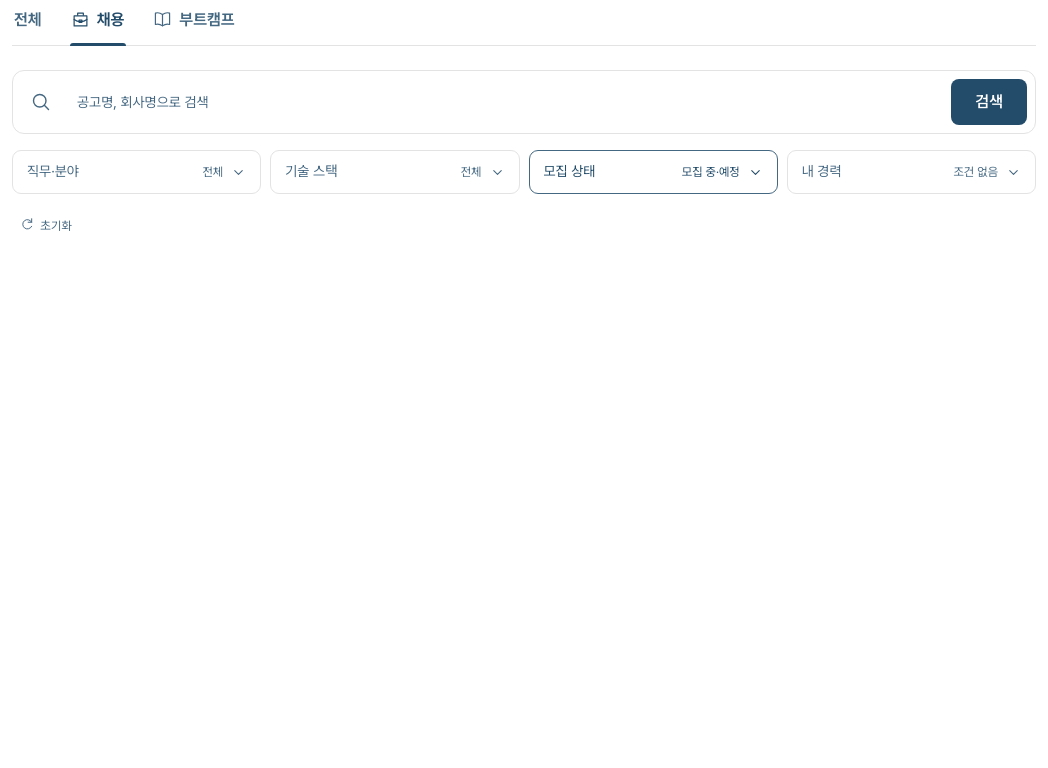
Test: 다른 필터를 열면 이전 패널은 닫히고 선택한 조건은 유지된다
This screenshot has width=1048, height=768.
Click the button "직무·분야 전체": x=137, y=172 [12,150,261,194]
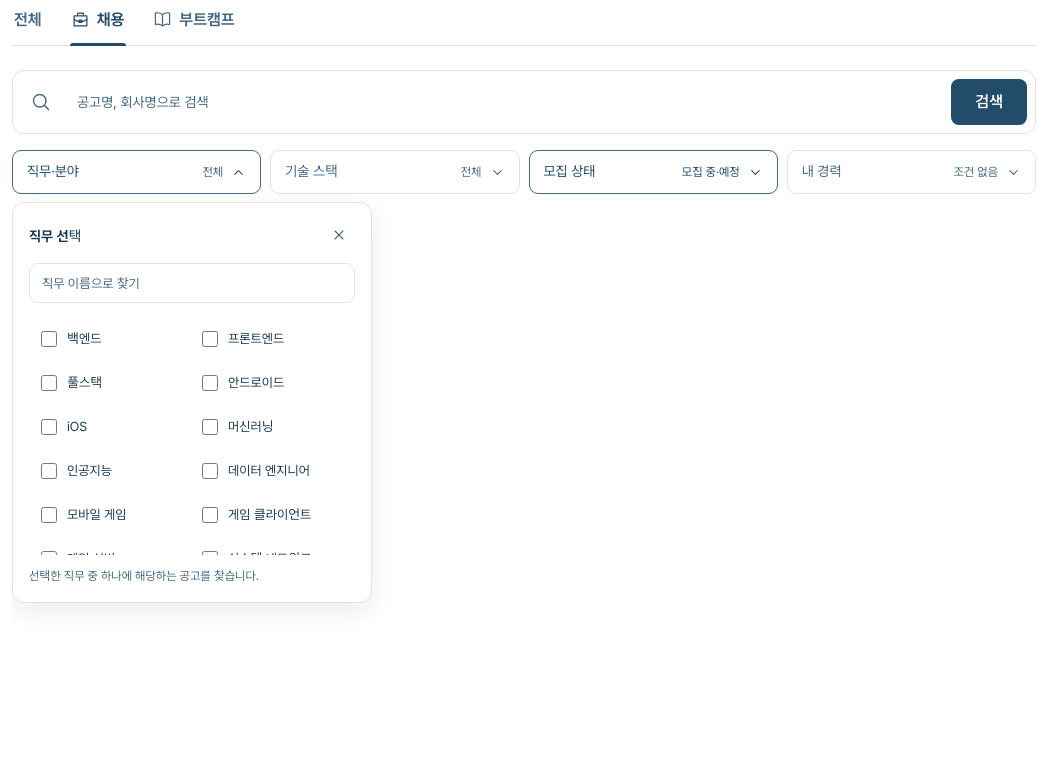
Click the checkbox labelled "백엔드": x=49, y=339 [41,331,57,347]
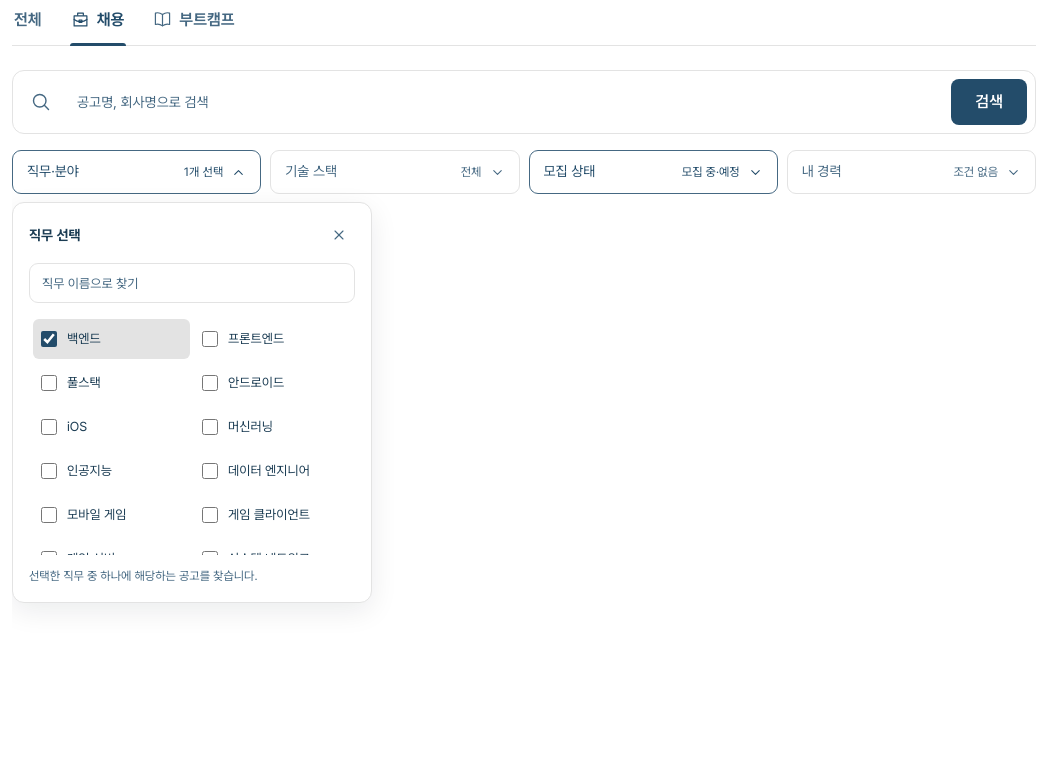
Click the button "기술 스택 전체": x=395, y=172 [270,150,520,194]
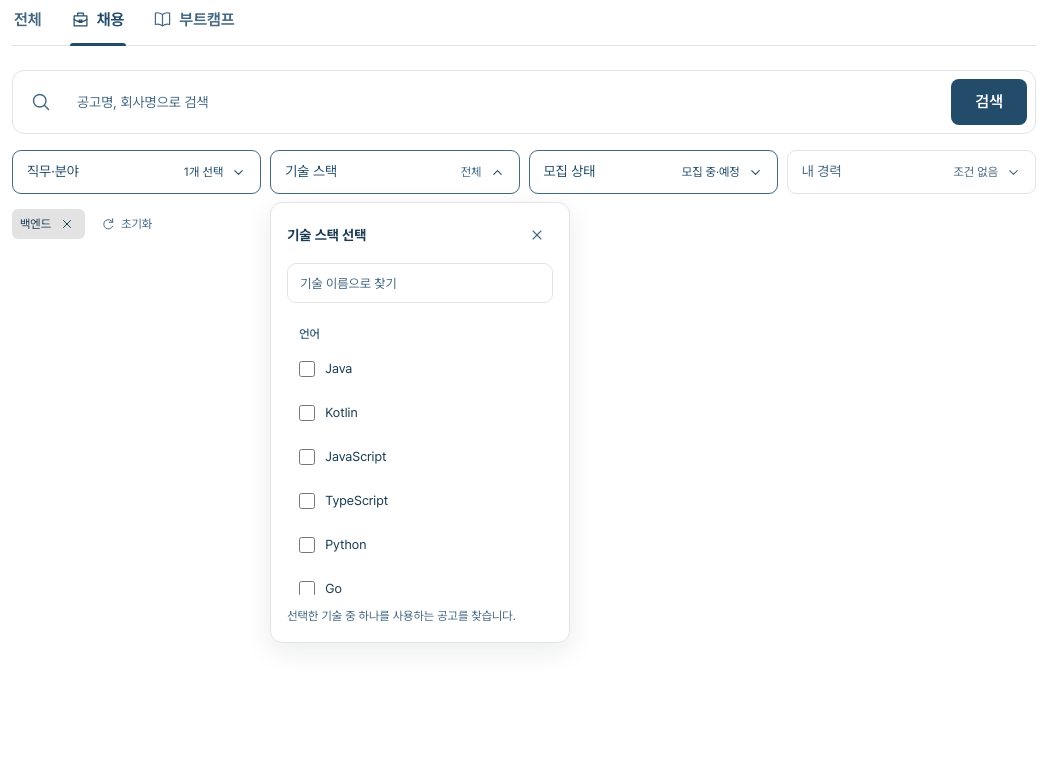
Click the button "직무·분야 1개 선택": x=137, y=172 [12,150,261,194]
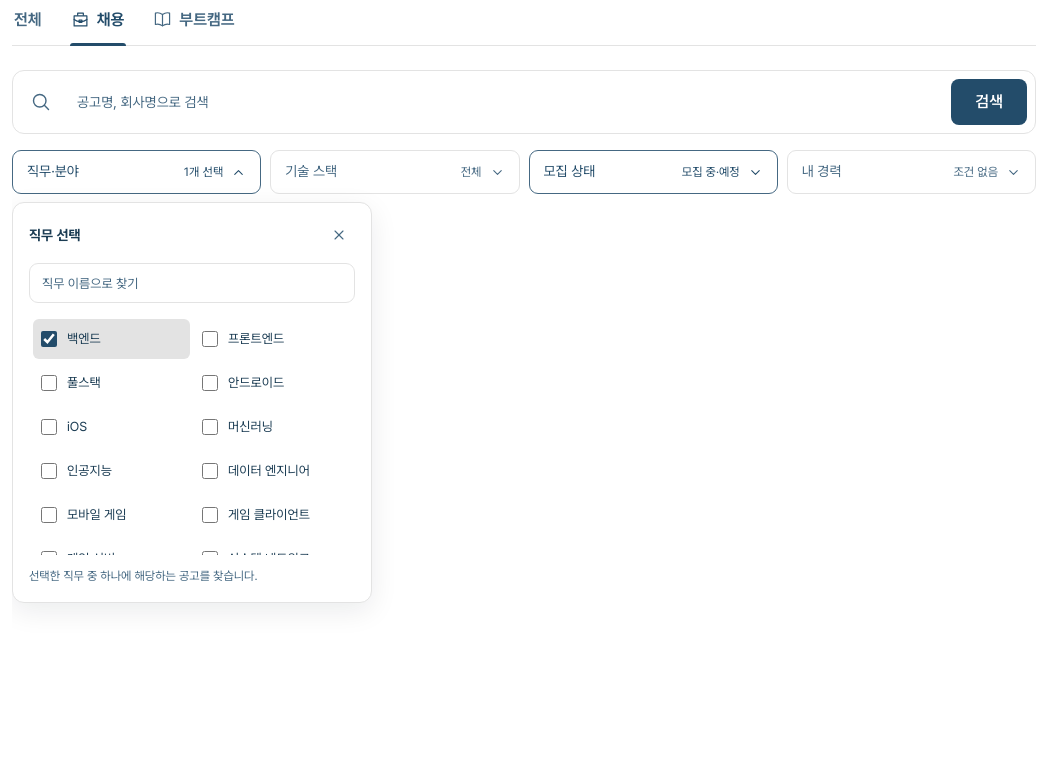
Now the checkbox labelled "백엔드" is checked, box [41,331,57,347]
